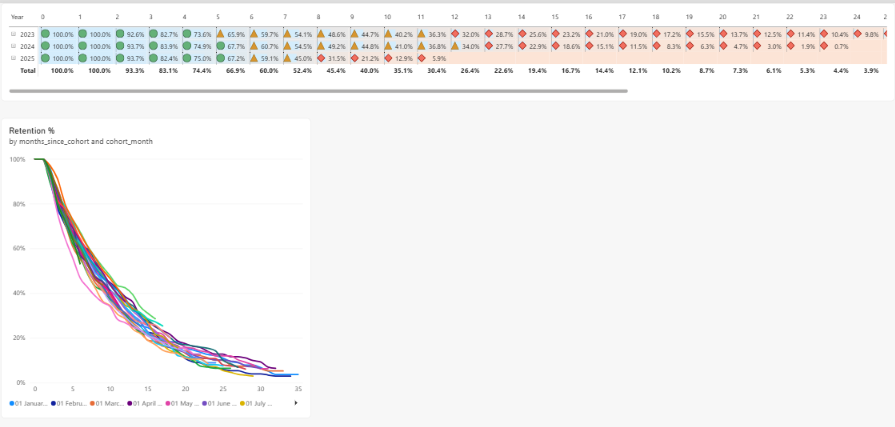

The dashboard page shown, as its layout file describes it:
{"tool":"powerbi","page":{"name":"Cohort Retention","canvas":[1920,1080],"ordinal":1},"visuals":[{"type":"pivotTable","fields":{"Columns":["CustomerMonthlyActivity.months_since_cohort"],"Rows":["CustomerMonthlyActivity.cohort_month.Variation.Date Hierarchy.Year","CustomerMonthlyActivity.cohort_month.Variation.Date Hierarchy.Quarter","CustomerMonthlyActivity.cohort_month.Variation.Date Hierarchy.Month","CustomerMonthlyActivity.cohort_month.Variation.Date Hierarchy.Day"],"Values":["CustomerMonthlyActivity.Retention %"]},"box":[10.6,0,1892.9,207.5],"z":0},{"type":"lineChart","fields":{"Category":["CustomerMonthlyActivity.months_since_cohort"],"Series":["CustomerMonthlyActivity.cohort_month"],"Y":["CustomerMonthlyActivity.Retention %"]},"box":[10.6,243.5,656.4,635.2],"z":1000}]}

Visuals, with their boxes on the page's 1920x1080 design canvas (x1, y1, x2, y2). These are canvas units, not pixel positions in the 895x427 screenshot, which may show the page scaled, cropped or inside an application window:
pivotTable - CustomerMonthlyActivity.months_since_cohort x CustomerMonthlyActivity.cohort_month.Variation.Date Hierarchy.Year: 11:0:1904:208
lineChart - CustomerMonthlyActivity.months_since_cohort x CustomerMonthlyActivity.cohort_month: 11:244:667:879
